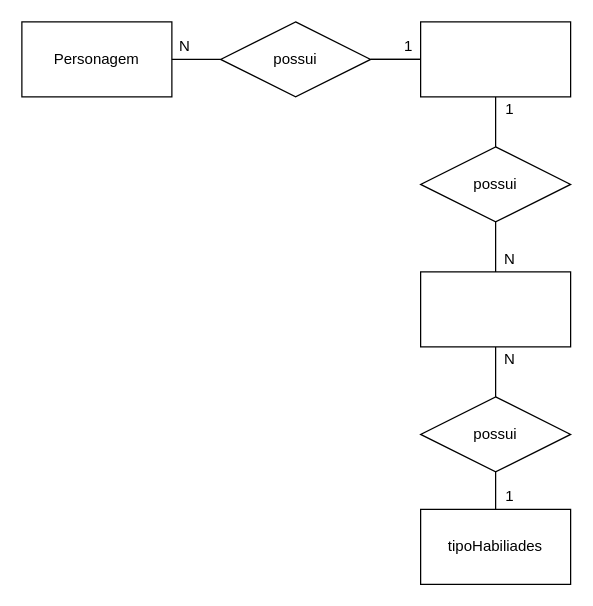
The diagram is 593 pixels wide and 606 high, and some of its shapes have lost their labels. The shapes that lost their labels are listed below. From the top down, each one's centre as x and y in pixels, then its label:
pixel 495 59: Classe
pixel 495 309: Habilidade
